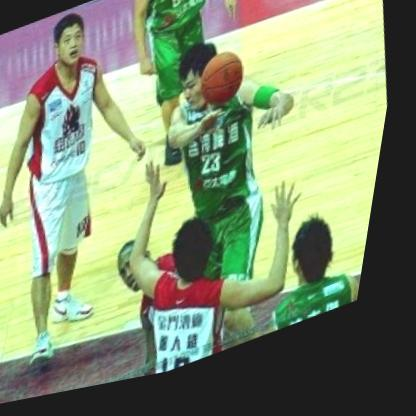basketball: (194, 50, 258, 125)
